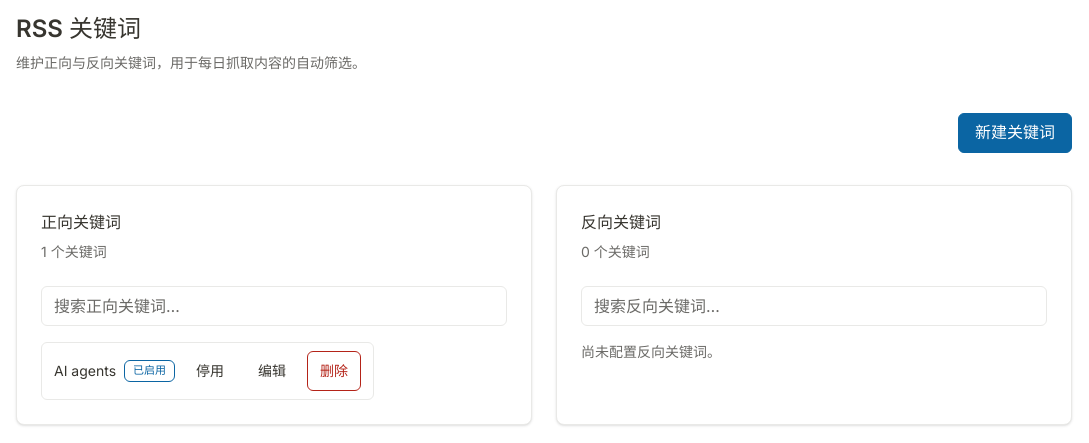
Scenario: RssKeywordsPage › disables a keyword without changing its term or type
The image size is (1089, 443).
Click the button with aria-label "停用 AI agents" at (210, 371), box 183,351 -> 237,391
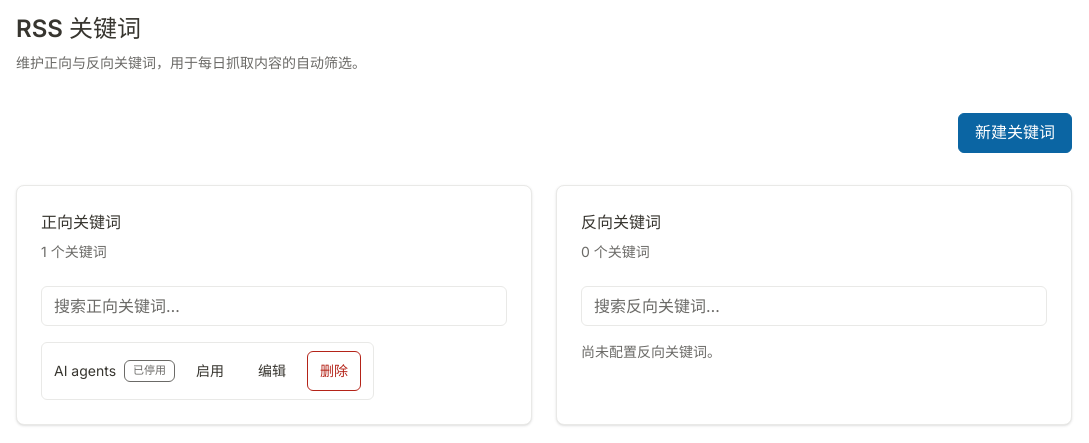
Result: the element "正向关键词" shows "已停用" at 133,363 -> 166,377
